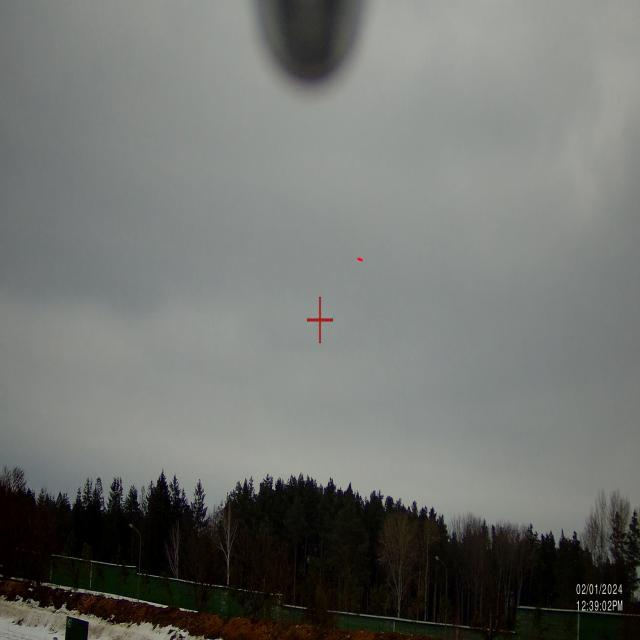entire: (356, 250, 367, 268)
